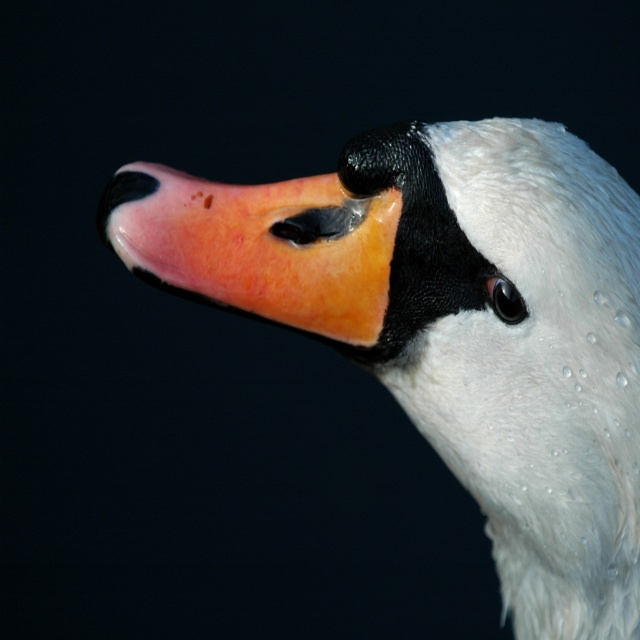Goose: (99, 110, 640, 639)
